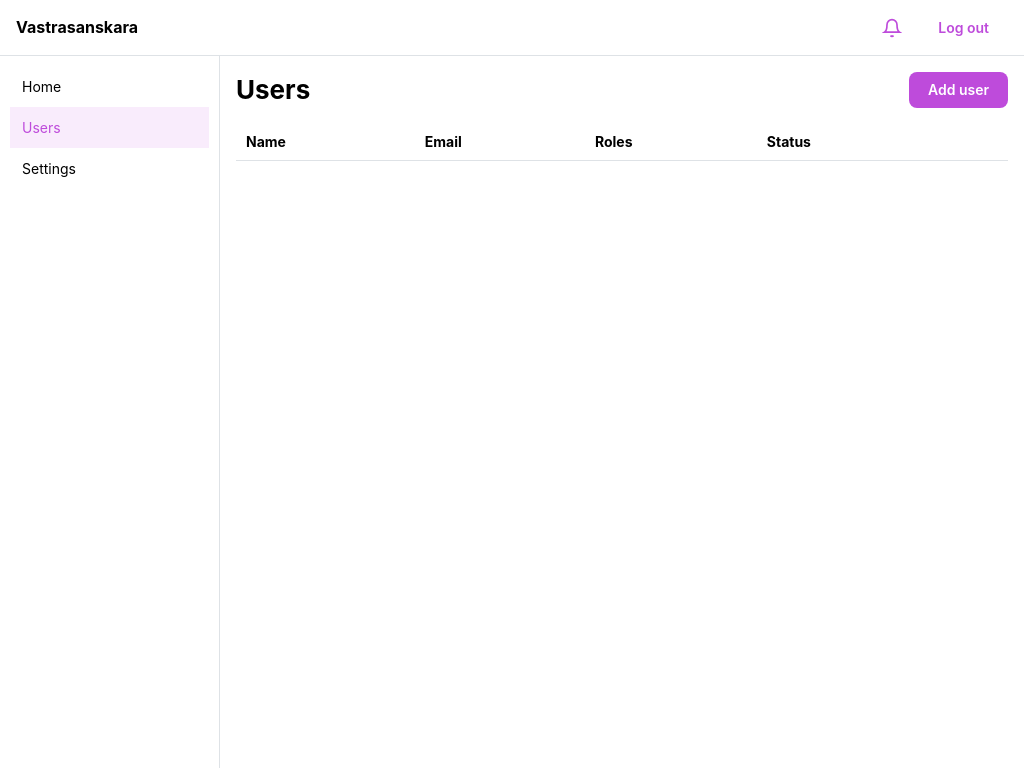
Test: shows server error
Click the button "Add user" at (958, 90), box [909,72,1008,108]
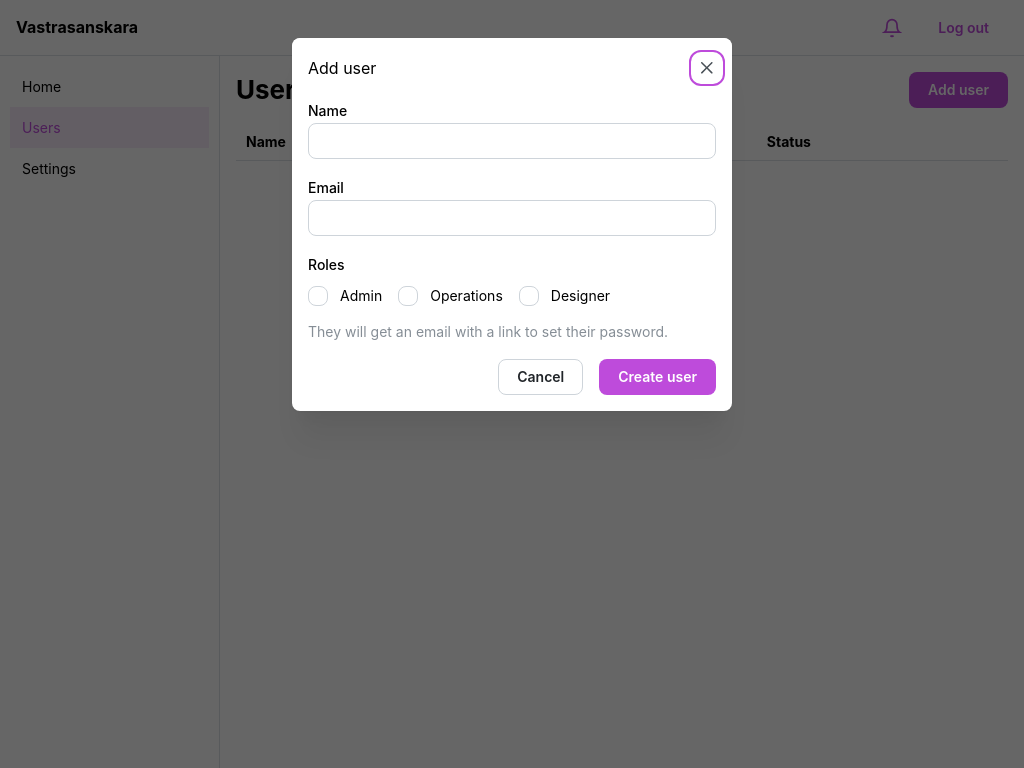
Type "R" into the field labelled "Name" at (512, 141), box [308,123,716,159]
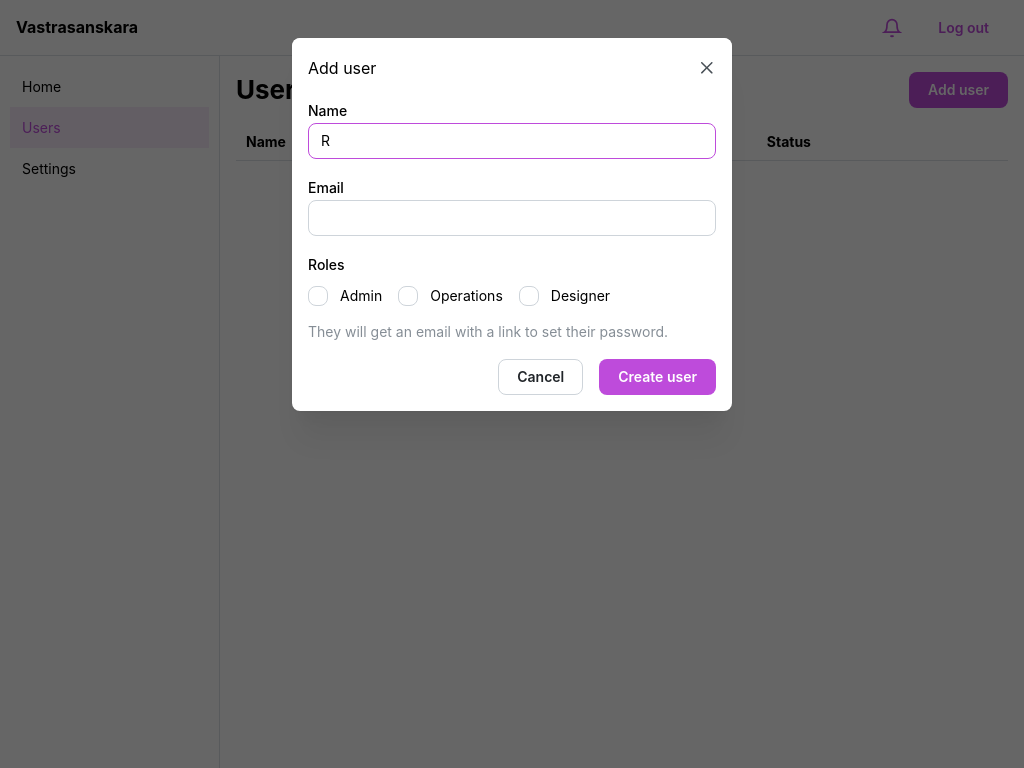
Type "r@x.com" into the field labelled "Email" at (512, 218), box [308,200,716,236]
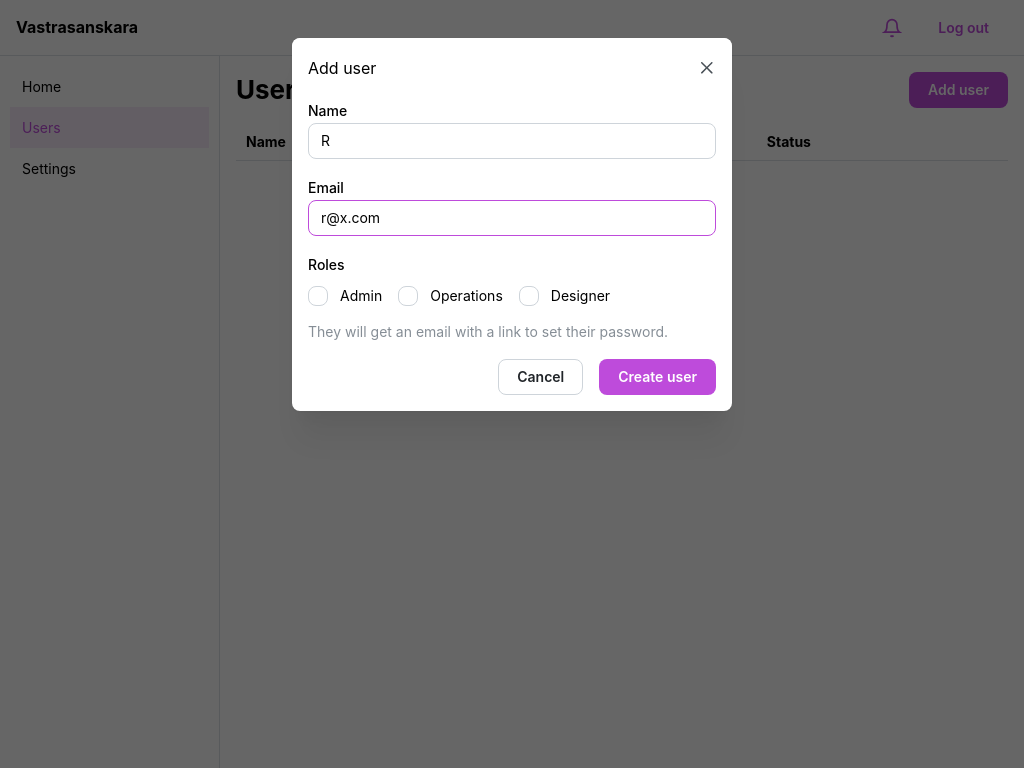
Click the checkbox labelled "Designer" at (529, 297), box [519,287,539,307]
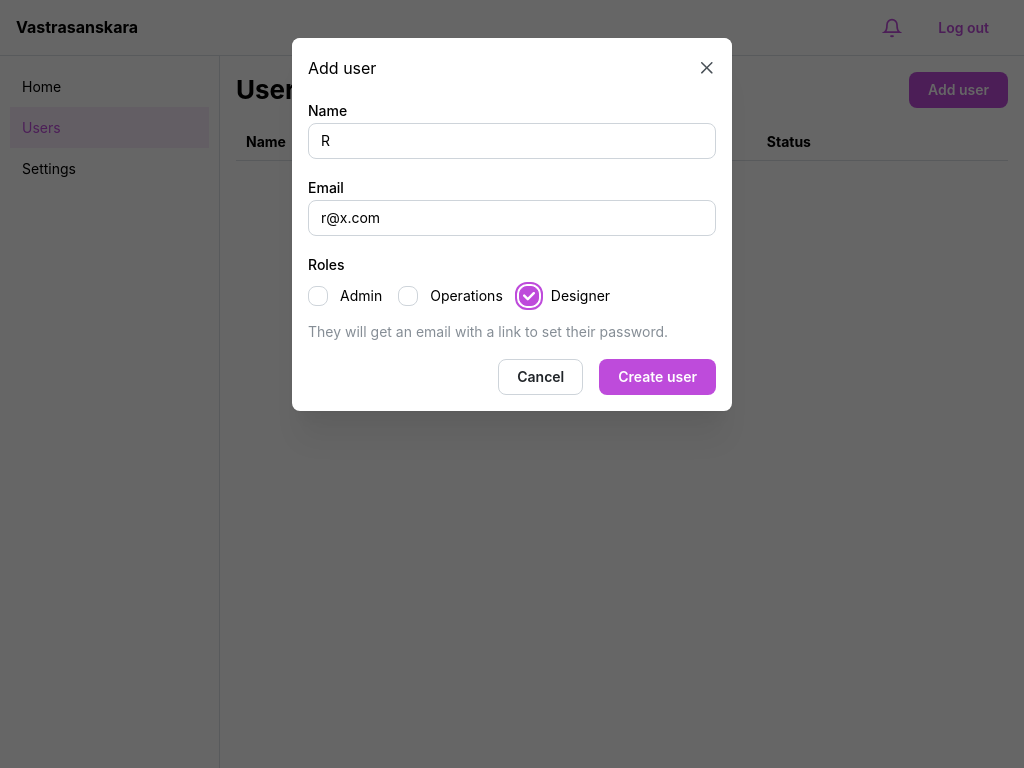
Click the button "Create user" at (658, 377), box [599,359,716,395]
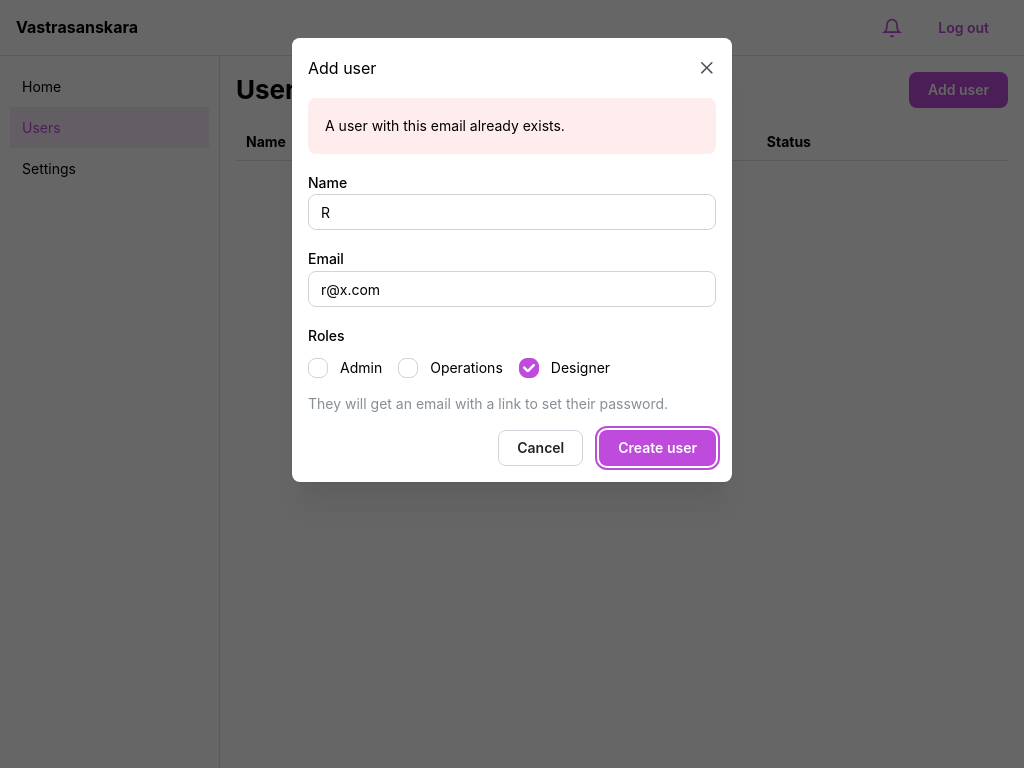
Result: the text "A user with this email already exists." is shown at [325,117,565,134]
